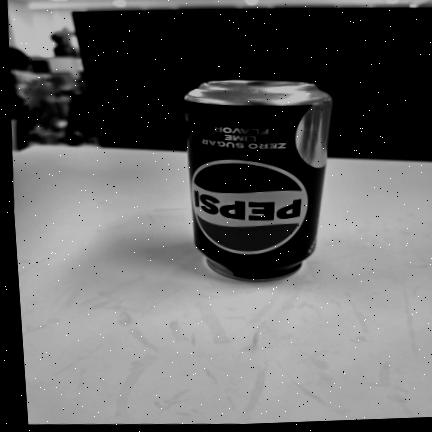can_pepsi_zero: (184, 79, 334, 281)
